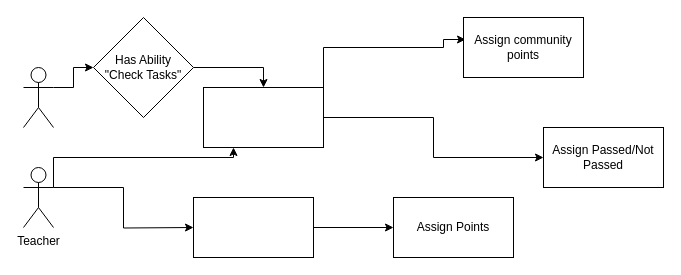
Some shapes in this 681 by 275 pixel diagram are drawn without their labels. Here are the shapes that lost their labels. From the top down, the centre of each, then its label:
At pixel 38 97: "User".
At pixel 263 117: "Check tasks".
At pixel 253 227: "Check Final Task".
